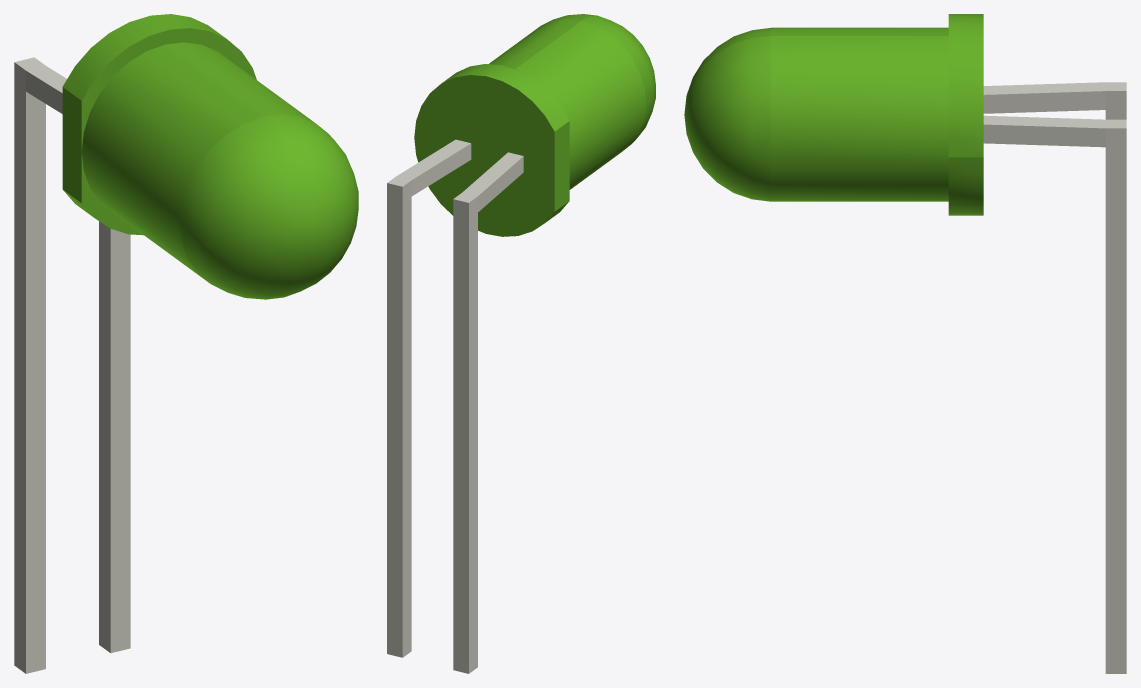
Rendered from kc-led_d5.0mm_horizontal_o3.81mm_z15.0mm.glb.
3 renders of one model, left to right at view 1: azimuth 30°, elevation 25°; view 2: azimuth 150°, elevation 25°; view 3: azimuth 270°, elevation 25°, orthographic. The views are drawn at different scales.
Parts seen in each view (by area): view 1: 0.16666666666666666_0.4166666666666667_0_0, 0.6666666666666666_0.6666666666666666_0.5833333333333334_0.8; view 2: 0.16666666666666666_0.4166666666666667_0_0, 0.6666666666666666_0.6666666666666666_0.5833333333333334_0.8; view 3: 0.16666666666666666_0.4166666666666667_0_0, 0.6666666666666666_0.6666666666666666_0.5833333333333334_0.8.
Part boxes in pixels (bbox=[...]): 0.16666666666666666_0.4166666666666667_0_0: bbox=[62, 14, 358, 299]; 0.6666666666666666_0.6666666666666666_0.5833333333333334_0.8: bbox=[14, 57, 130, 673]; 0.16666666666666666_0.4166666666666667_0_0: bbox=[414, 14, 655, 236]; 0.6666666666666666_0.6666666666666666_0.5833333333333334_0.8: bbox=[387, 139, 523, 673]; 0.16666666666666666_0.4166666666666667_0_0: bbox=[684, 14, 983, 215]; 0.6666666666666666_0.6666666666666666_0.5833333333333334_0.8: bbox=[983, 82, 1126, 673].
Bounding box in the file's own units: 0.54 × 1.99 × 1.27.
